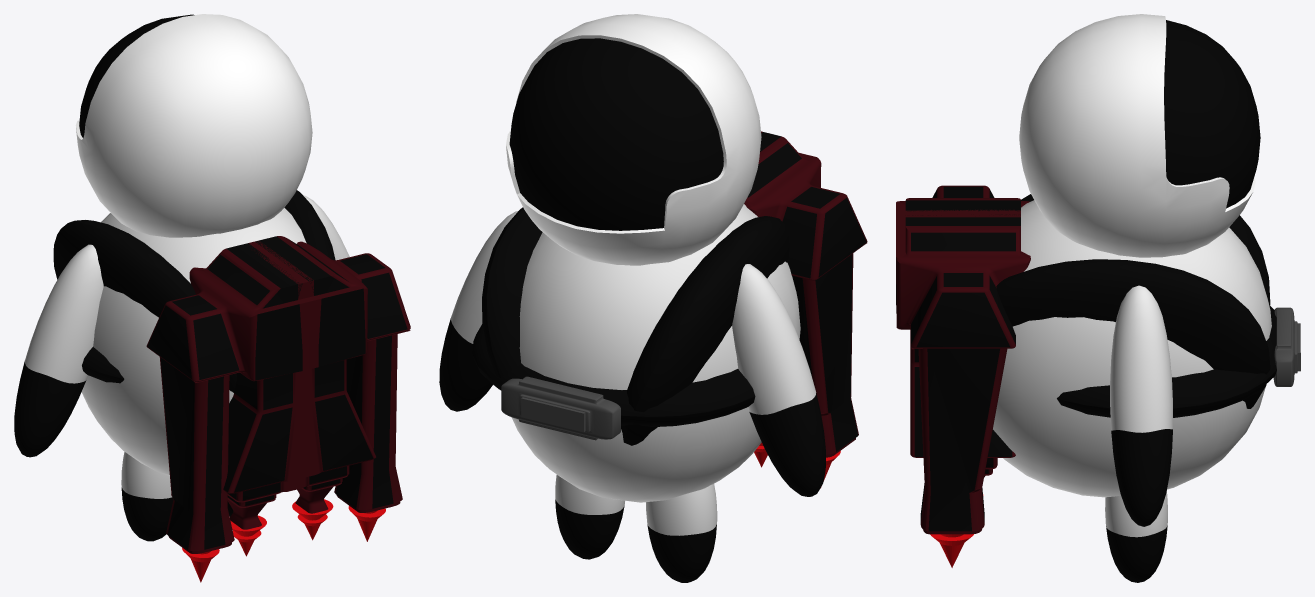
The model's file is JumpPlayer.glb.
The picture shows the model from 3 angles, left to right: view 1: azimuth 30°, elevation 25°; view 2: azimuth 150°, elevation 25°; view 3: azimuth 270°, elevation 25°; orthographic projection. The views are drawn at different scales.
Parts seen in each view (by area): view 1: Cube.007, Cube.001, Cube.002, Cube.005, Cube.008, Cube.004, Cube.003, Cube.010, Cone.003, Cone.002, Cone.001; view 2: Cube.002, Cube.003, Cube.001, Cube.008, Cube.005, Cube.007, Cube.004, Cube.010, Cube.009; view 3: Cube.001, Cube.007, Cube.002, Cube.008, Cube.003, Cube.005, Cube.010, Cube.004, Cube.009, Cone.001.
Boxes of the visible parts, left/top/right/bottom form: Cube.007: left=146, top=236, right=410, bottom=553; Cube.001: left=75, top=14, right=312, bottom=237; Cube.002: left=81, top=207, right=306, bottom=475; Cube.005: left=14, top=195, right=349, bottom=457; Cube.008: left=53, top=190, right=335, bottom=392; Cube.004: left=121, top=452, right=233, bottom=541; Cube.003: left=79, top=14, right=194, bottom=137; Cube.010: left=82, top=347, right=124, bottom=383; Cone.003: left=292, top=499, right=333, bottom=540; Cone.002: left=230, top=515, right=266, bottom=556; Cone.001: left=348, top=506, right=385, bottom=541; Cube.002: left=511, top=204, right=800, bottom=502; Cube.003: left=509, top=38, right=723, bottom=230; Cube.001: left=506, top=14, right=761, bottom=265; Cube.008: left=482, top=207, right=789, bottom=445; Cube.005: left=439, top=211, right=825, bottom=496; Cube.007: left=744, top=131, right=867, bottom=457; Cube.004: left=555, top=475, right=717, bottom=582; Cube.010: left=472, top=324, right=755, bottom=426; Cube.009: left=501, top=376, right=620, bottom=440; Cube.001: left=1019, top=14, right=1255, bottom=257; Cube.007: left=896, top=185, right=1030, bottom=534; Cube.002: left=993, top=200, right=1271, bottom=497; Cube.008: left=996, top=194, right=1270, bottom=408; Cube.003: left=1164, top=20, right=1260, bottom=208; Cube.005: left=1110, top=285, right=1172, bottom=526; Cube.010: left=1057, top=305, right=1276, bottom=417; Cube.004: left=1105, top=492, right=1167, bottom=582; Cube.009: left=1273, top=307, right=1300, bottom=386; Cone.001: left=930, top=534, right=973, bottom=567.
Bounding box in the file's own units: 2.94 × 4.02 × 2.77.
